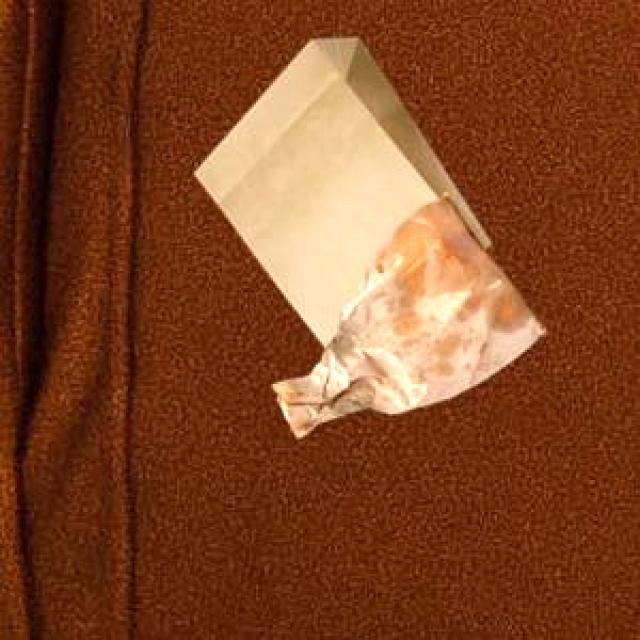Paper_Bag: (191, 35, 487, 345), (270, 188, 543, 434)
